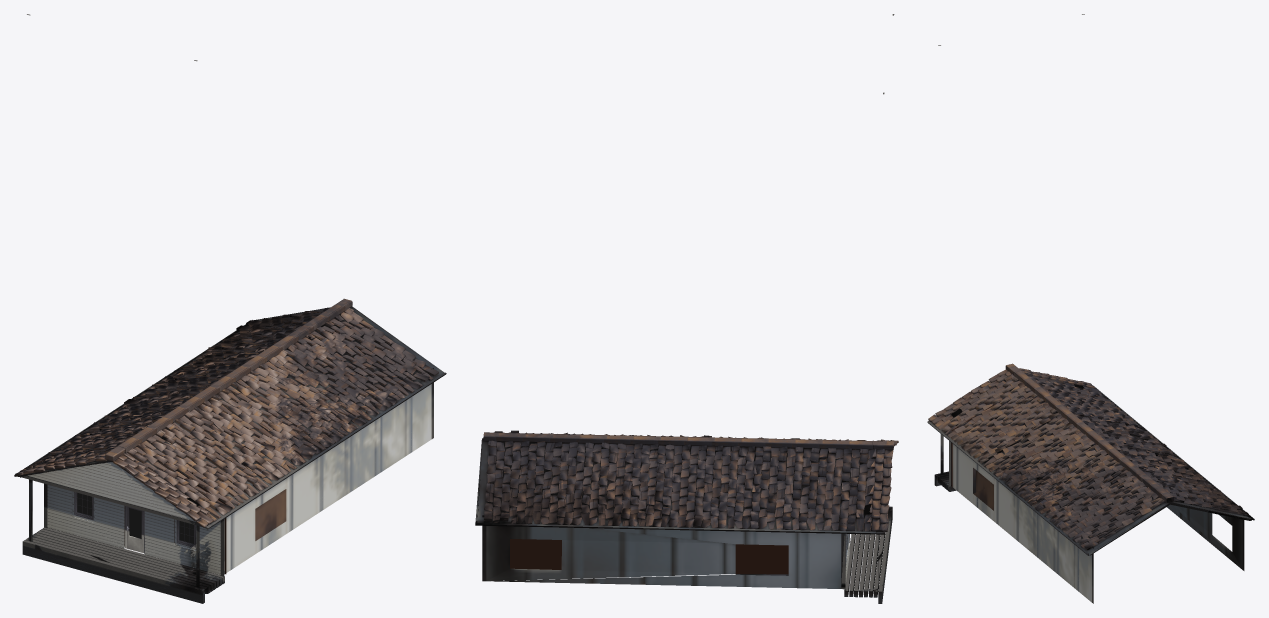
The model's file is Casa.fbx.
3 views of the same model, side by side, from view 1: azimuth 30°, elevation 25°; view 2: azimuth 150°, elevation 25°; view 3: azimuth 270°, elevation 25° (orthographic). The views are drawn at different scales.
Visible parts, largest first — view 1: Sede - Casa ok - Comb.003, Sede - Casa ok - Comb.004, Sede - Casa ok - Comb.007, Sede - Casa ok - Comb.001, Sede - Casa ok - Comb.006; view 2: Sede - Casa ok - Comb.003, Sede - Casa ok - Comb.004, Sede - Casa ok - Comb.007, Sede - Casa ok - Comb.005; view 3: Sede - Casa ok - Comb.003, Sede - Casa ok - Comb.004, Sede - Casa ok - Comb.007.
Boxes of the visible parts, x1,y1,x2,y2 form: Sede - Casa ok - Comb.003: [15, 298, 438, 570]; Sede - Casa ok - Comb.004: [27, 384, 431, 574]; Sede - Casa ok - Comb.007: [14, 14, 446, 603]; Sede - Casa ok - Comb.001: [74, 492, 195, 553]; Sede - Casa ok - Comb.006: [77, 493, 193, 543]; Sede - Casa ok - Comb.003: [483, 430, 898, 531]; Sede - Casa ok - Comb.004: [486, 459, 891, 588]; Sede - Casa ok - Comb.007: [475, 14, 894, 603]; Sede - Casa ok - Comb.005: [510, 539, 788, 574]; Sede - Casa ok - Comb.003: [928, 363, 1248, 550]; Sede - Casa ok - Comb.004: [951, 443, 1242, 602]; Sede - Casa ok - Comb.007: [927, 14, 1254, 603].
Bounding box in the file's own units: 2125 × 2560 × 1735.
